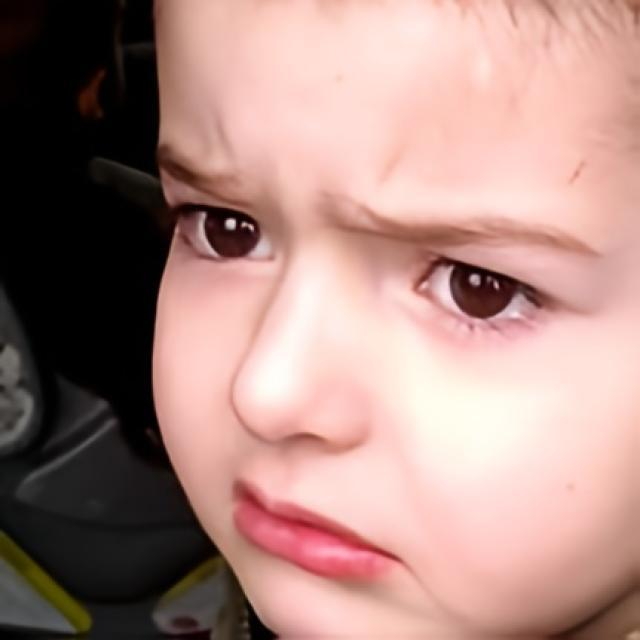sad: (147, 0, 640, 640)
